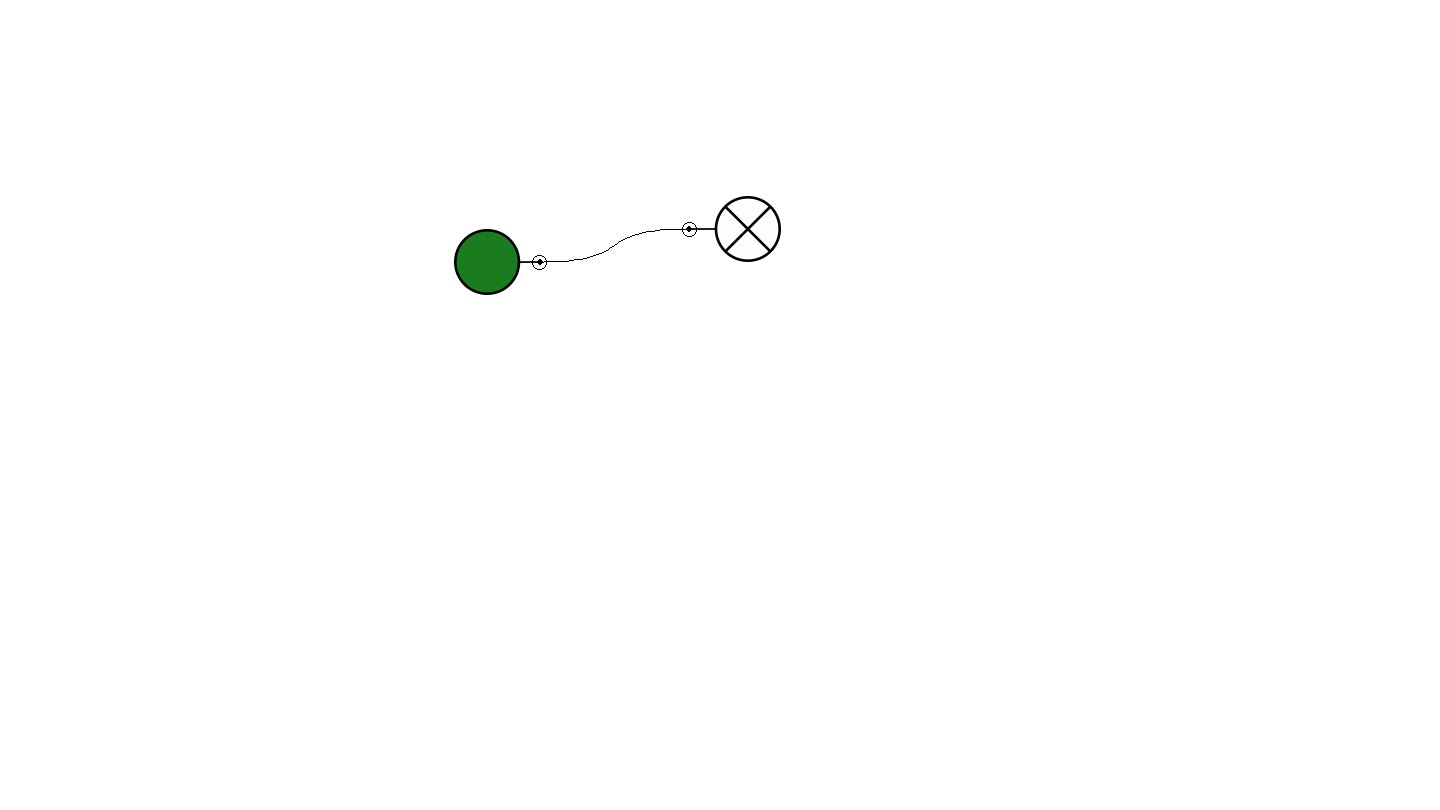bulb: (682, 196, 781, 262)
switch_True: (454, 229, 547, 295)
